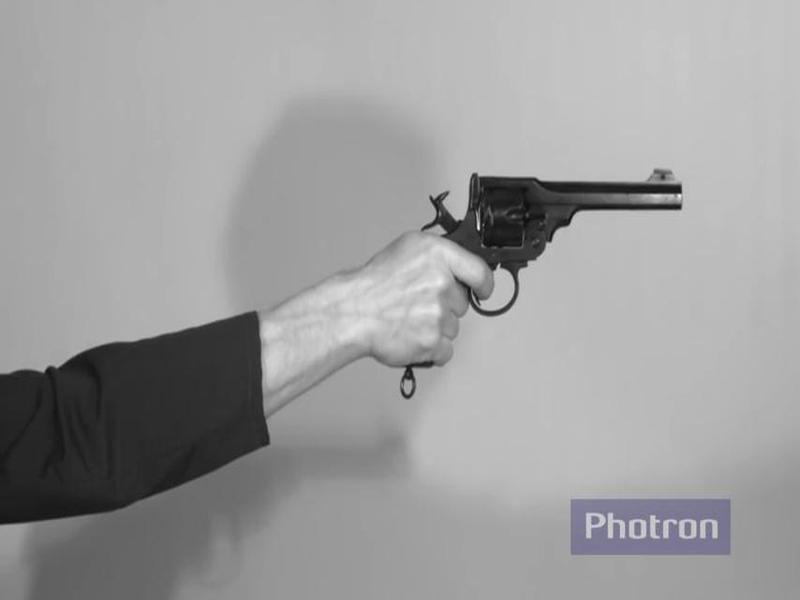Revolver: (387, 138, 689, 344)
